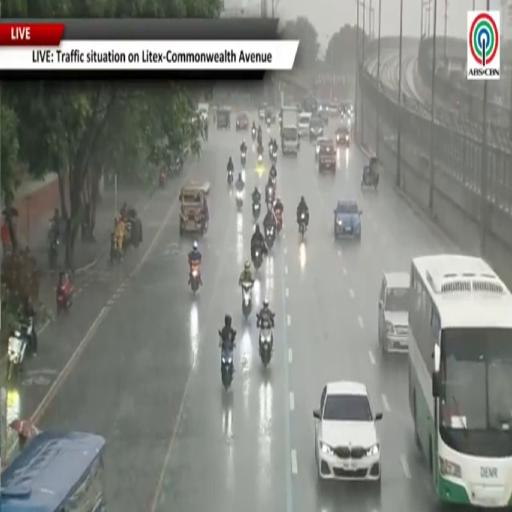bus: (409, 255, 511, 508), (0, 431, 106, 511)
car: (313, 381, 382, 485), (378, 272, 410, 351), (180, 182, 209, 235), (334, 200, 362, 239), (319, 140, 335, 171), (216, 107, 230, 130), (316, 136, 329, 159), (310, 117, 323, 140), (336, 126, 350, 147), (236, 112, 249, 131), (318, 103, 329, 124), (328, 102, 340, 118), (265, 106, 275, 123), (258, 103, 267, 120)
jeepney: (180, 183, 207, 235)
motorcycle: (7, 318, 33, 381), (221, 344, 234, 390), (57, 279, 74, 314), (259, 324, 272, 366), (48, 229, 59, 269), (242, 283, 253, 319), (110, 232, 122, 262), (190, 262, 200, 293), (265, 225, 276, 250), (253, 249, 263, 269), (299, 213, 306, 239), (266, 185, 275, 204), (275, 210, 282, 233), (236, 190, 243, 211), (252, 202, 260, 220), (159, 170, 166, 188), (270, 149, 277, 164), (258, 147, 263, 165), (227, 170, 233, 185), (257, 152, 263, 166), (270, 174, 276, 188), (241, 152, 246, 167), (266, 116, 272, 128), (204, 123, 208, 141), (252, 128, 256, 141)
tricycle: (361, 157, 379, 189)
truck: (281, 107, 299, 154)
